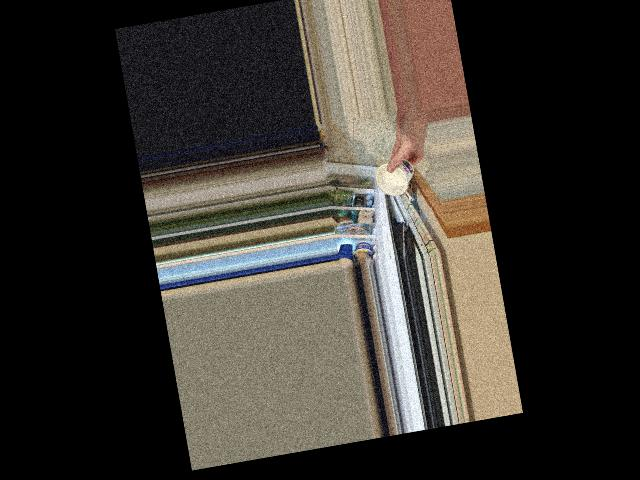cotage: (374, 154, 420, 200)
